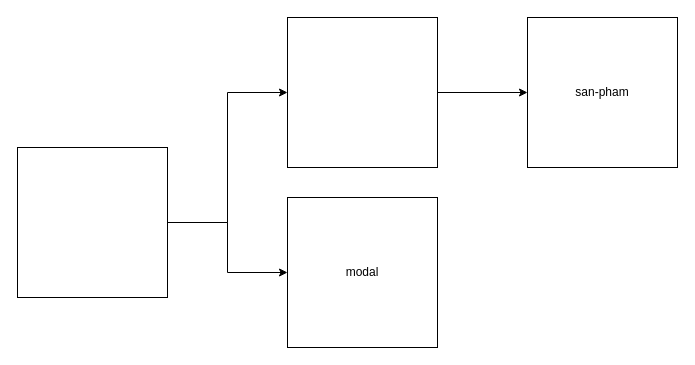
Some shapes in this 695 by 365 pixel diagram are drawn without their labels. The shapes that lost their labels are listed below. From the top down, each one's centre as x and y in pixels, then its label:
At pixel 362 92: "danh-sach-san-pham".
At pixel 92 222: "index".
